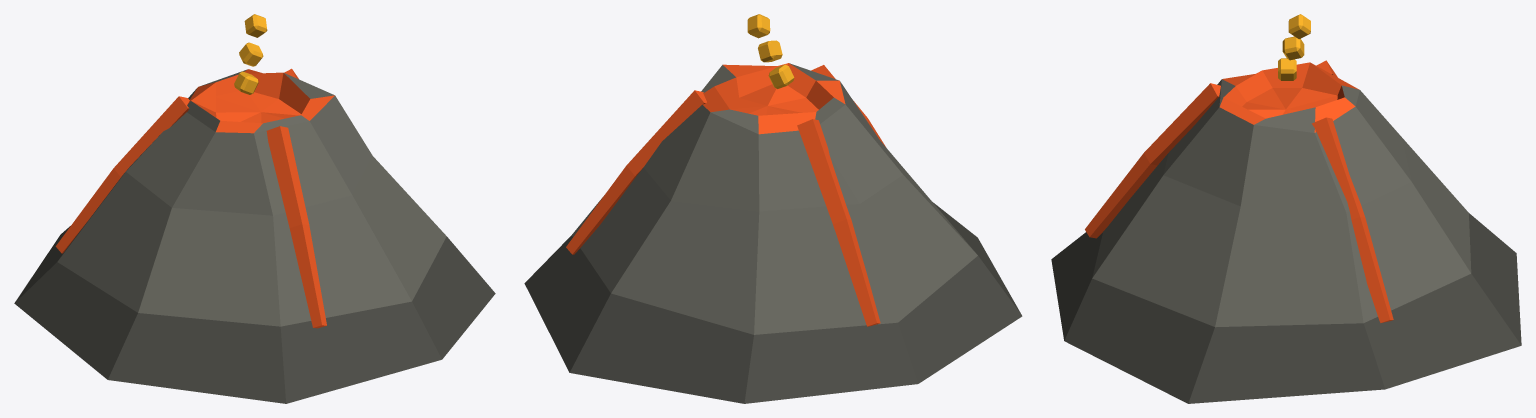
Rendered from Volcano.fbx.
The picture shows the model from 3 angles, left to right: view 1: azimuth 30°, elevation 25°; view 2: azimuth 150°, elevation 25°; view 3: azimuth 270°, elevation 25°; orthographic projection. The views are drawn at different scales.
Visible parts, largest first — view 1: Volcano; view 2: Volcano; view 3: Volcano.
Boxes of the visible parts, x1,y1,x2,y2 form: Volcano: (14,14,495,403); Volcano: (524,14,1022,403); Volcano: (1051,14,1521,403).
Size of the model in its own units: 14.83 by 10.44 by 15.09.
Materials: 1 (1 with a texture image).
